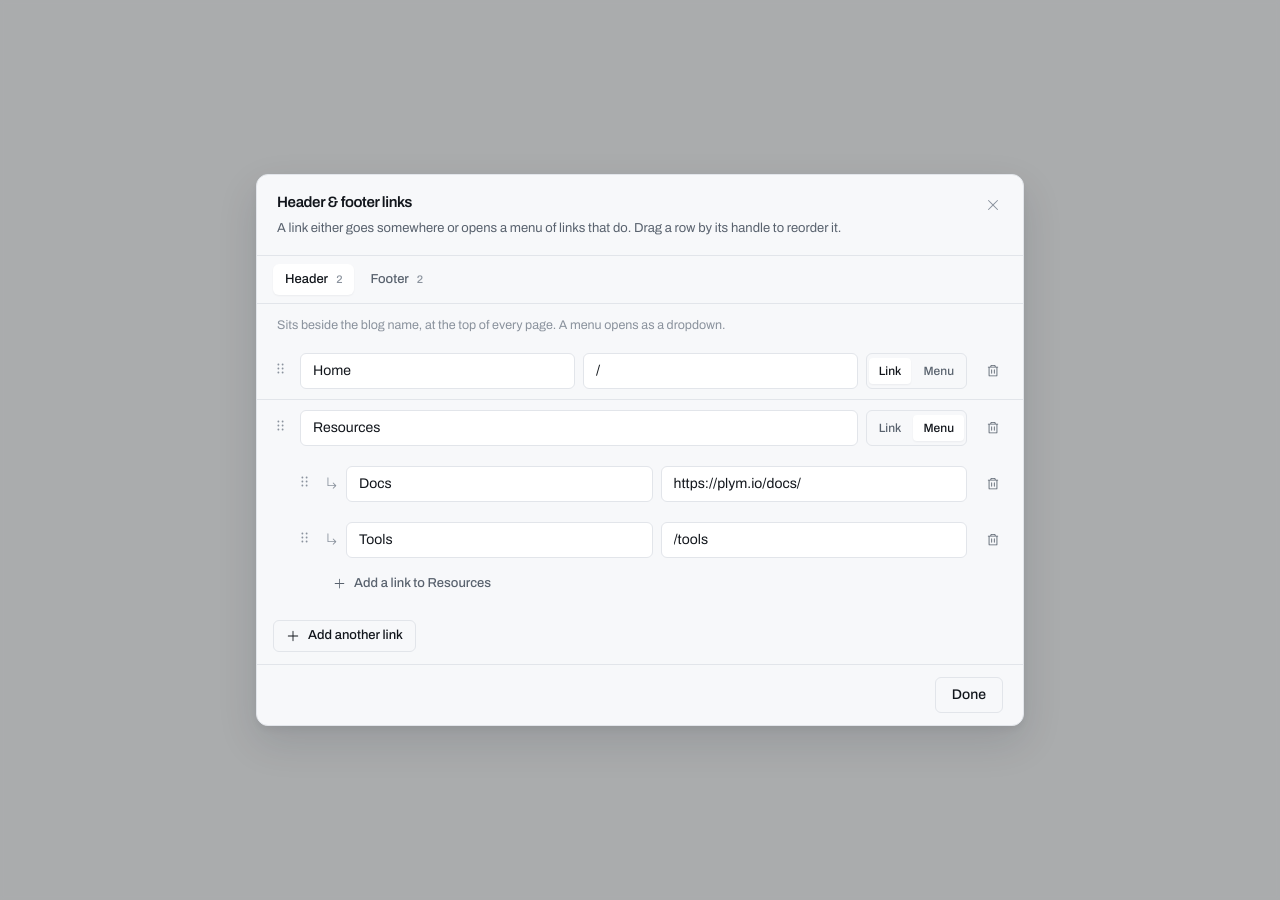
Test: NavLinksModal › turns a link into a menu with the toggle, and back into the link it was
Click the 1st button "Menu" at [939, 371], box [914,358,964,384]
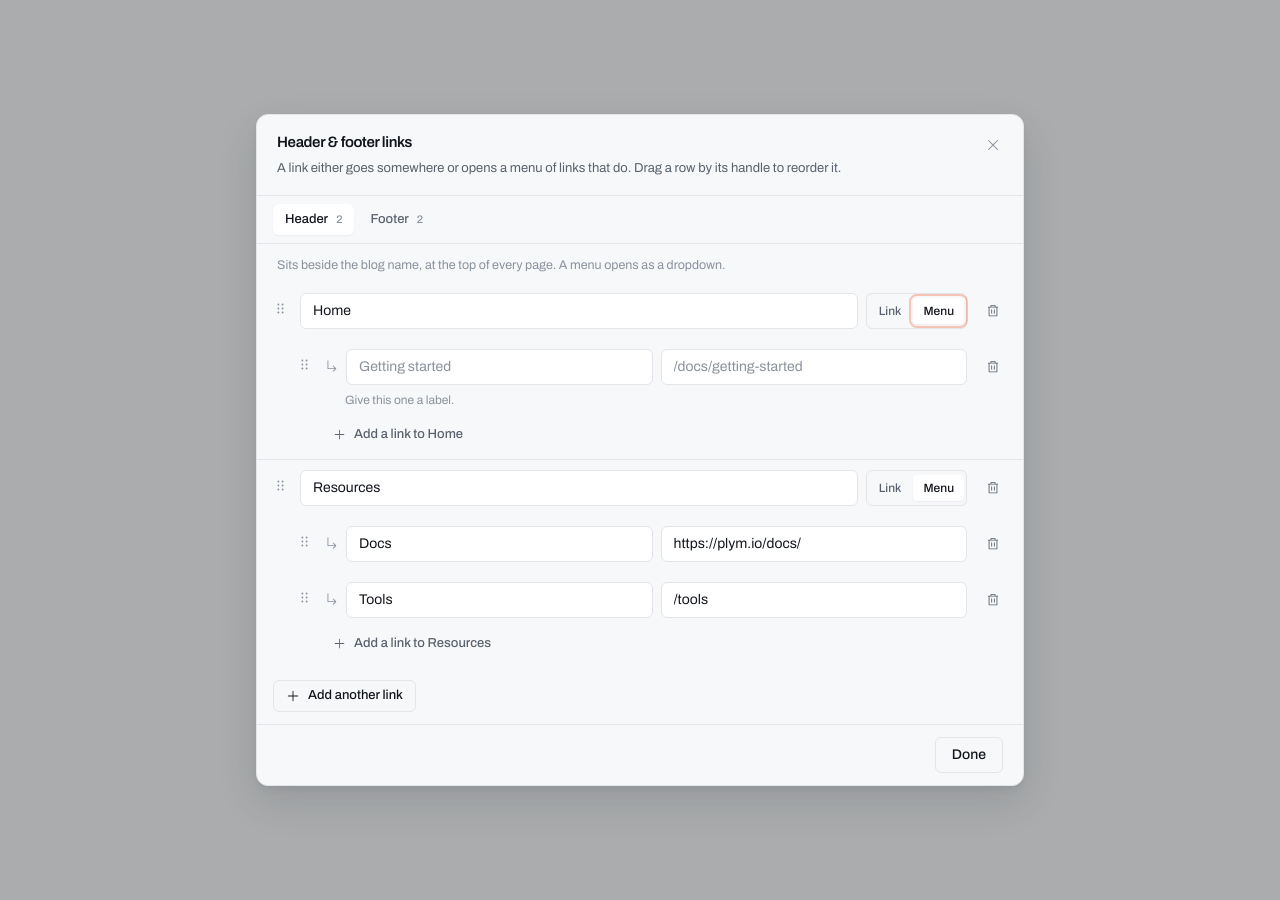
Now the field named "Link 1 sub-link 1 label" is shown, box [346,349,652,385]
Click the 1st button "Link" at [890, 311], box [869,298,912,324]
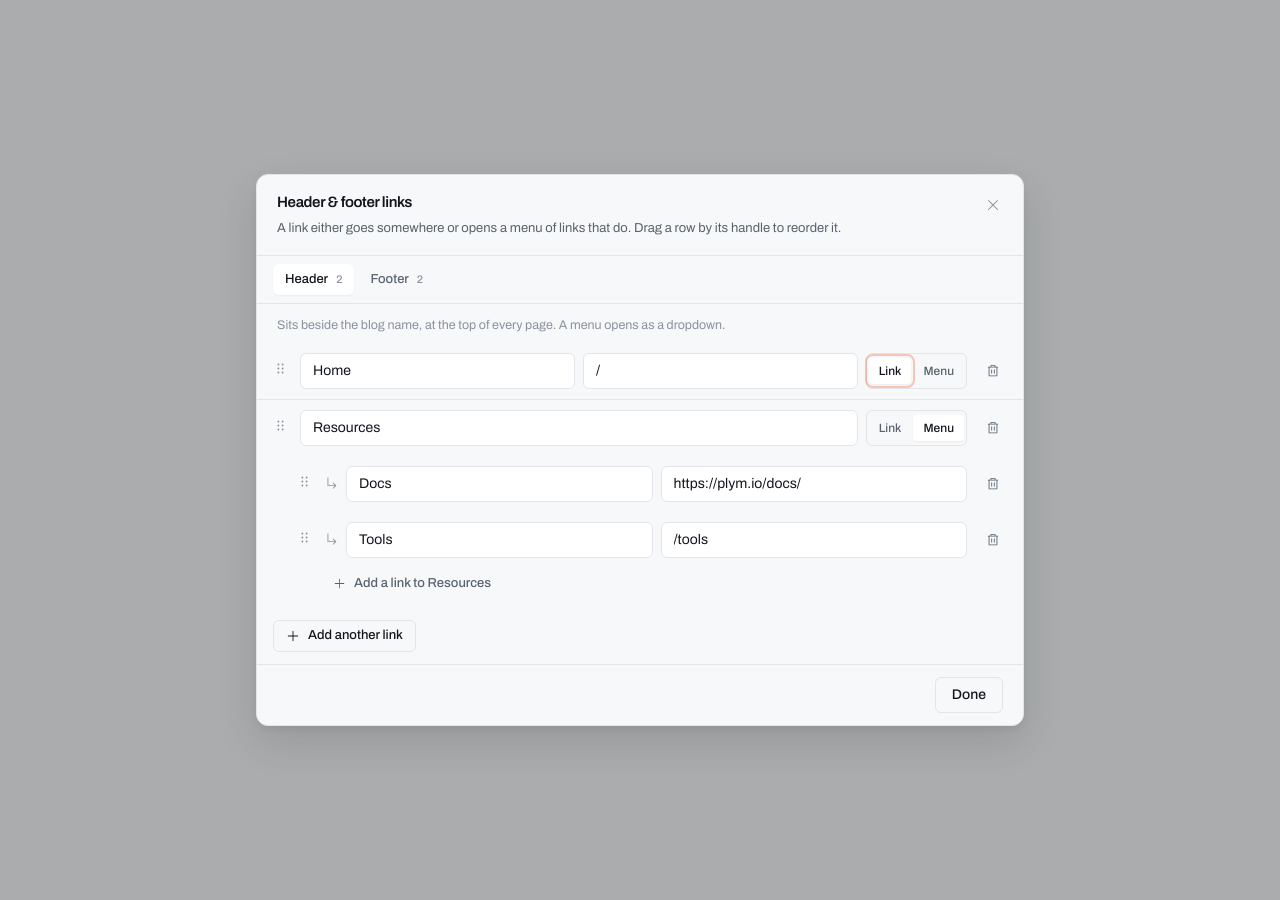
Now the field named "Link 1 address" holds "/", box [583,353,858,389]
